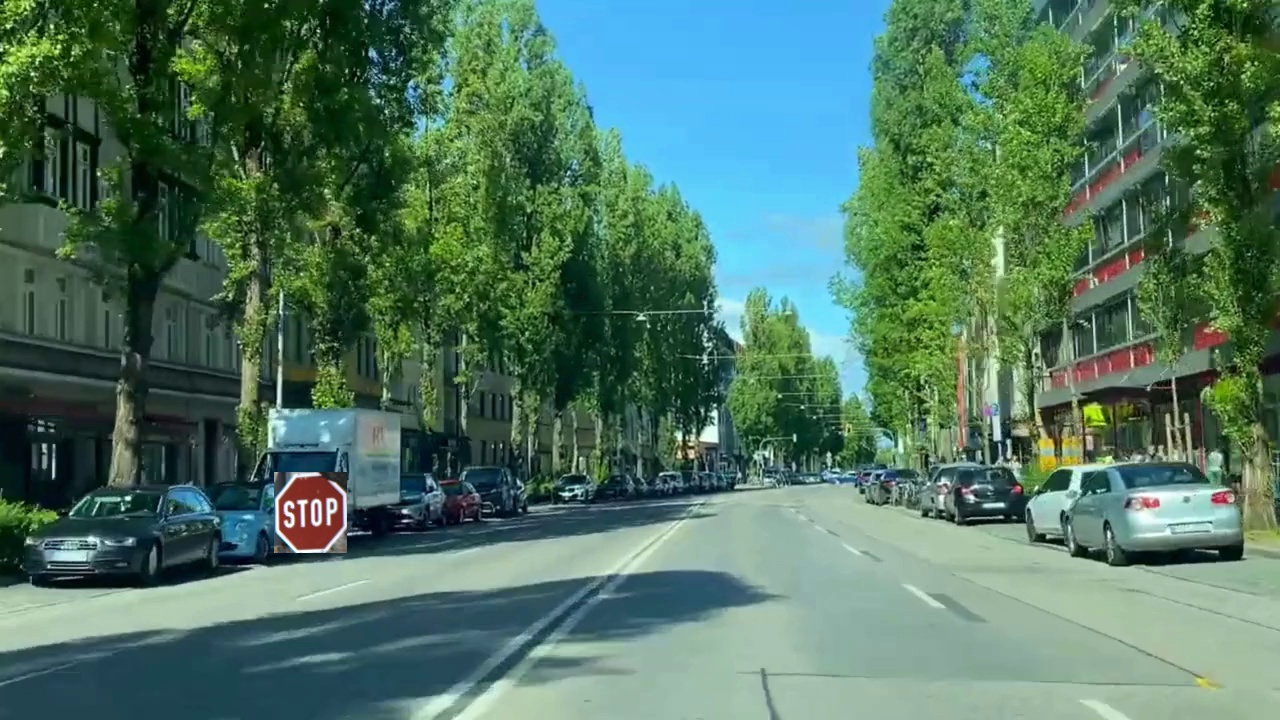Stop: (274, 472, 347, 553)
